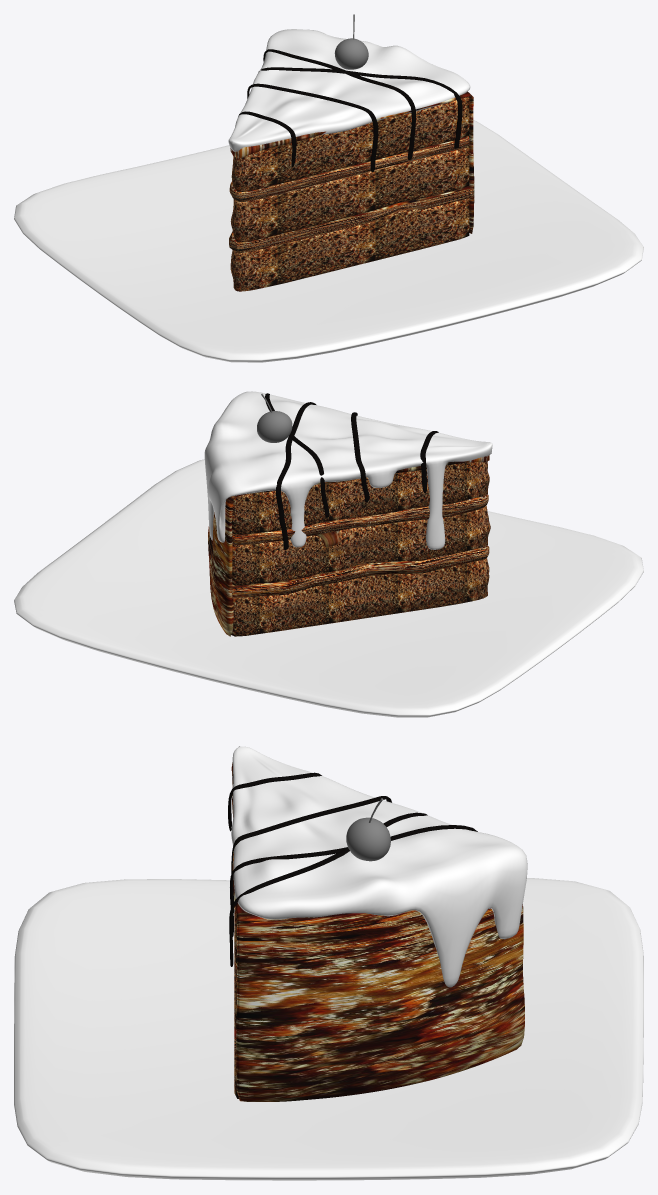
The model's file is Chocolate Cake.DAE.
3 views of the same model, one above another, from view 1: azimuth 30°, elevation 25°; view 2: azimuth 150°, elevation 25°; view 3: azimuth 270°, elevation 25° (orthographic). The views are drawn at different scales.
Visible parts, largest first — view 1: Box001, Group001, Cylinder003, Cylinder001, Cylinder005, Cylinder002, Cylinder004, Cylinder006, Plane004, Plane003, Sphere001, Plane002; view 2: Box001, Group001, Cylinder001, Cylinder003, Cylinder005, Cylinder002, Cylinder004, Cylinder006, Sphere001, Plane003, Plane004, Plane002; view 3: Box001, Cylinder006, Group001, Sphere001, Plane003, Plane004, Plane002.
Part boxes in pixels (x1,y1,x2,y2): Box001: (14,120,643,362); Group001: (228,29,470,151); Cylinder003: (230,146,469,242); Cylinder001: (230,198,469,291); Cylinder005: (231,97,469,192); Cylinder002: (229,186,473,253); Cylinder004: (229,136,469,202); Cylinder006: (230,91,474,233); Plane004: (258,67,462,148); Plane003: (263,49,415,159); Sphere001: (334,38,368,69); Plane002: (247,83,378,172); Box001: (14,459,643,717); Group001: (204,391,492,549); Cylinder001: (231,558,489,636); Cylinder003: (232,505,490,585); Cylinder005: (232,461,489,534); Cylinder002: (231,546,489,598); Cylinder004: (232,495,488,547); Cylinder006: (208,455,489,636); Sphere001: (257,411,292,442); Plane003: (275,402,316,549); Plane004: (265,393,329,517); Plane002: (351,412,369,501); Box001: (14,878,643,1180); Cylinder006: (231,762,524,1101); Group001: (231,746,527,987); Sphere001: (346,817,390,861); Plane003: (230,825,477,936); Plane004: (229,812,427,966); Plane002: (231,796,391,912).
Size of the model in its own units: 0.1847 by 0.1644 by 0.0804.
Materials: 6 (2 with a texture image).
